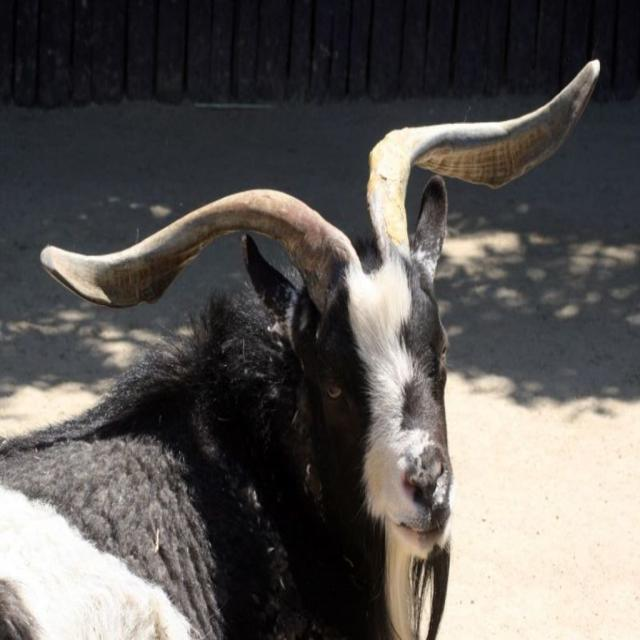Sheep: (0, 57, 600, 638)
